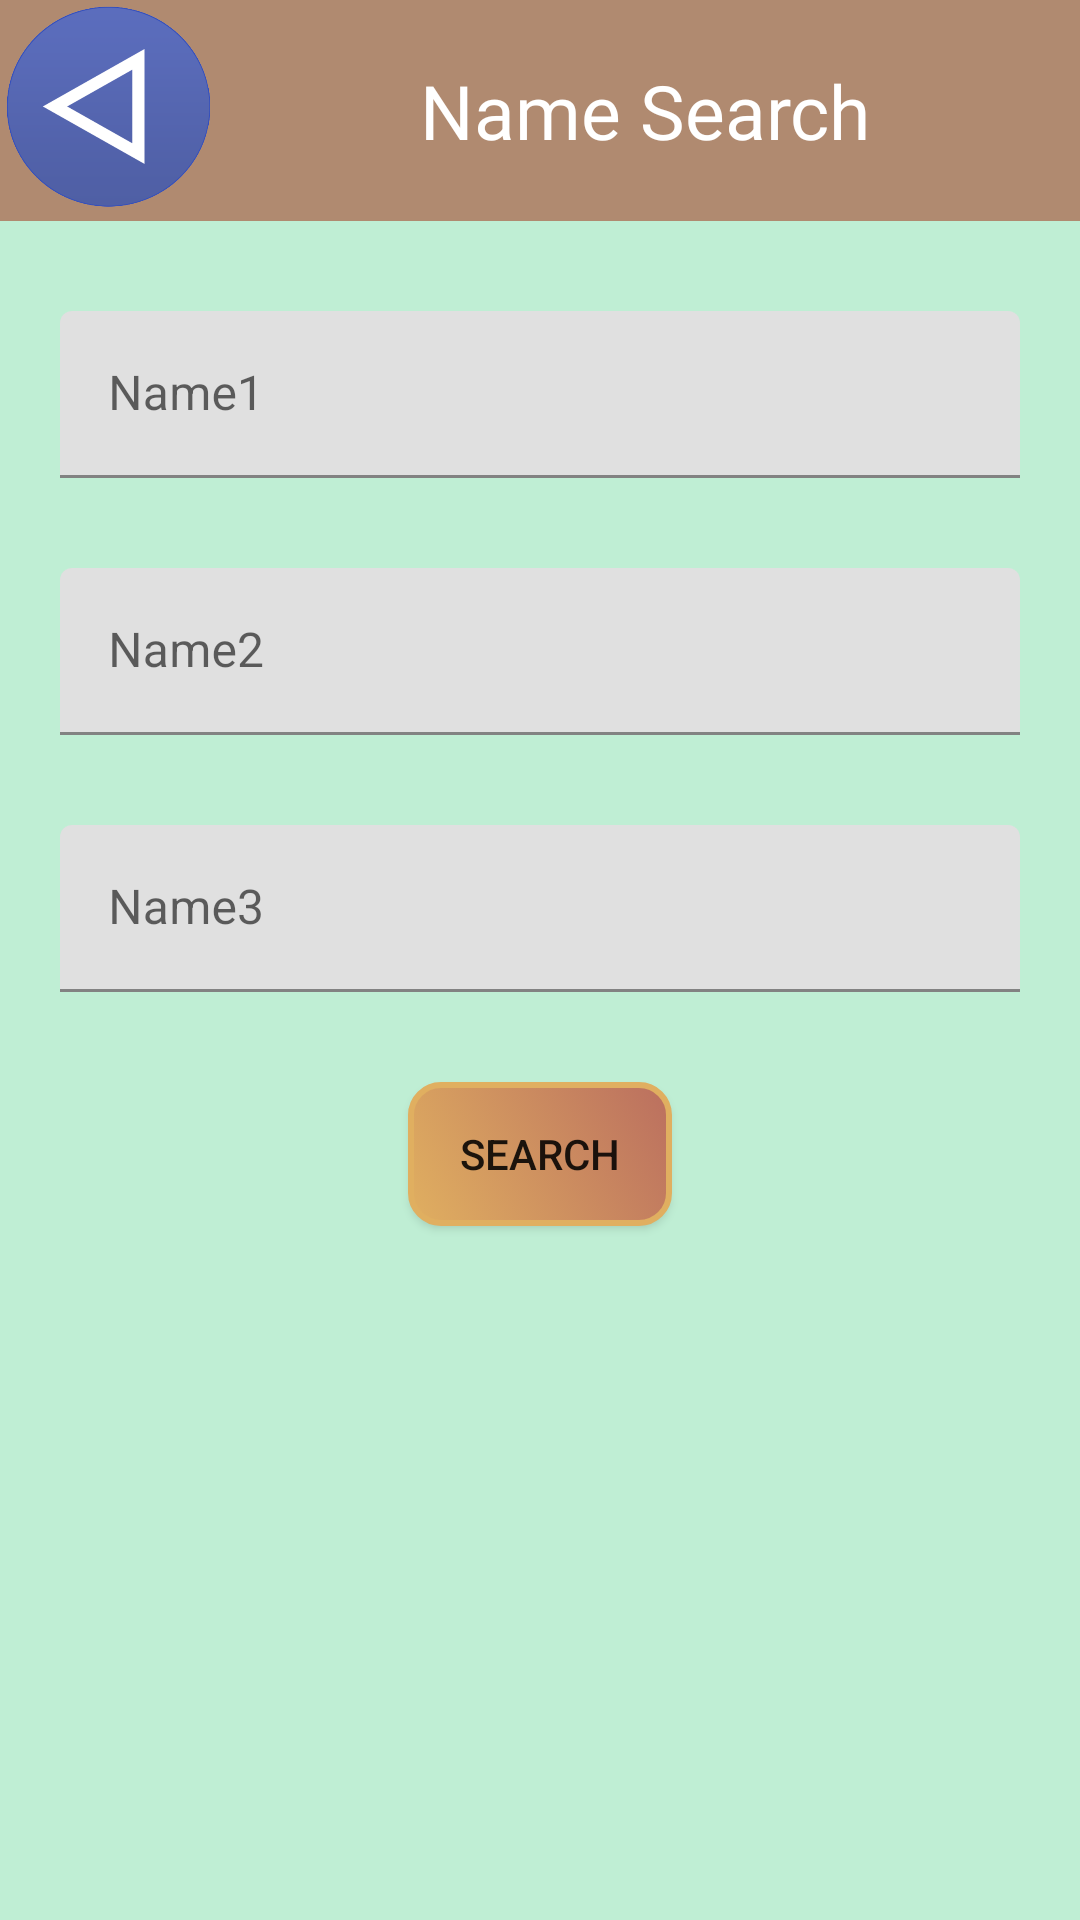

Icons on this 1080 x 1920 Android screen, each with the point to tap as (x=x, y=y):
backbtn: (x=108, y=107)
